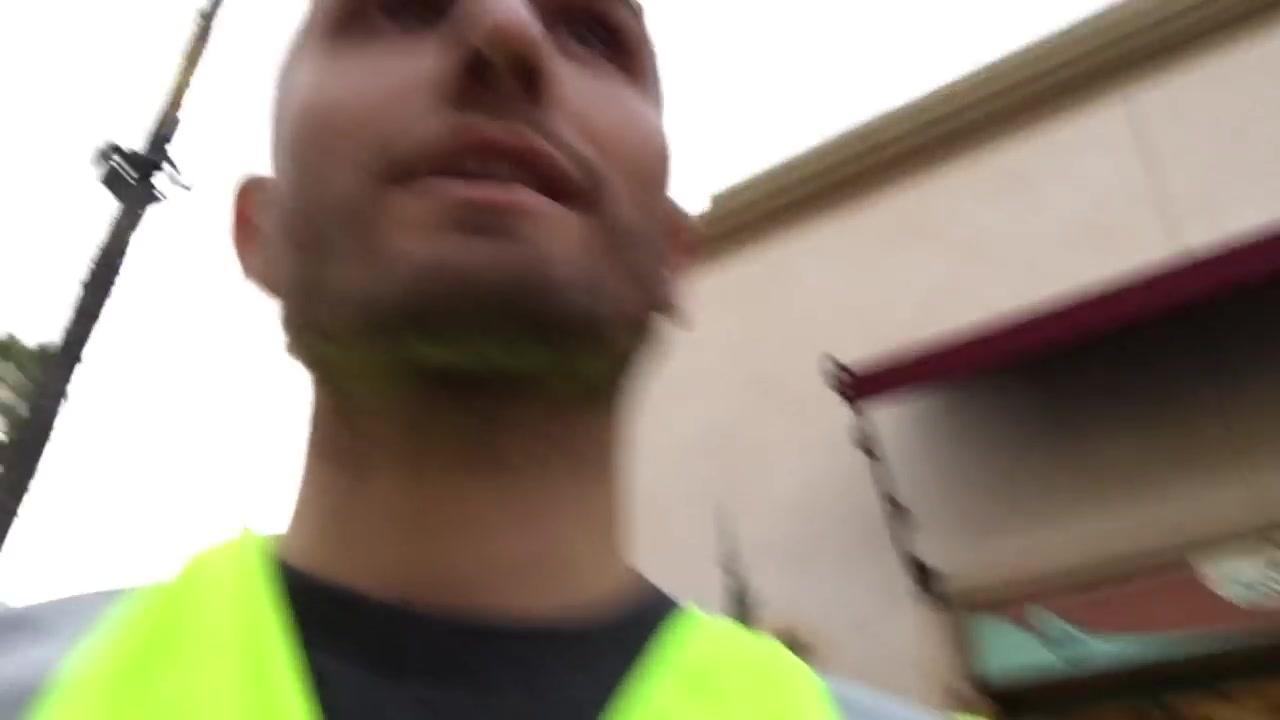vest: (1, 532, 989, 718)
